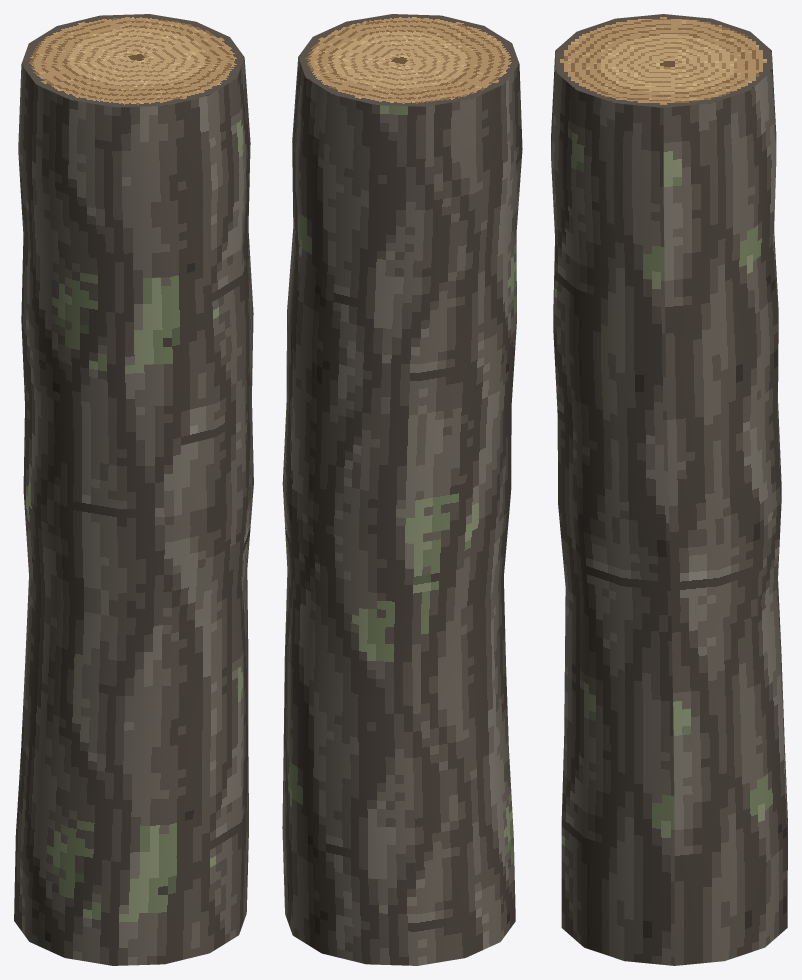
The model's file is environment_elm_loghalf_v57.fbx.
3 renders of one model, left to right at view 1: azimuth 30°, elevation 25°; view 2: azimuth 150°, elevation 25°; view 3: azimuth 270°, elevation 25°, orthographic.
Visible parts, largest first — view 1: environment_elm_loghalf_v57; view 2: environment_elm_loghalf_v57; view 3: environment_elm_loghalf_v57.
Boxes of the visible parts, bbox=[...] form: environment_elm_loghalf_v57: bbox=[14, 14, 253, 965]; environment_elm_loghalf_v57: bbox=[282, 14, 522, 965]; environment_elm_loghalf_v57: bbox=[551, 14, 787, 965].
Size of the model in its own units: 127 by 500 by 126.
Materials: 2 (2 with a texture image).
